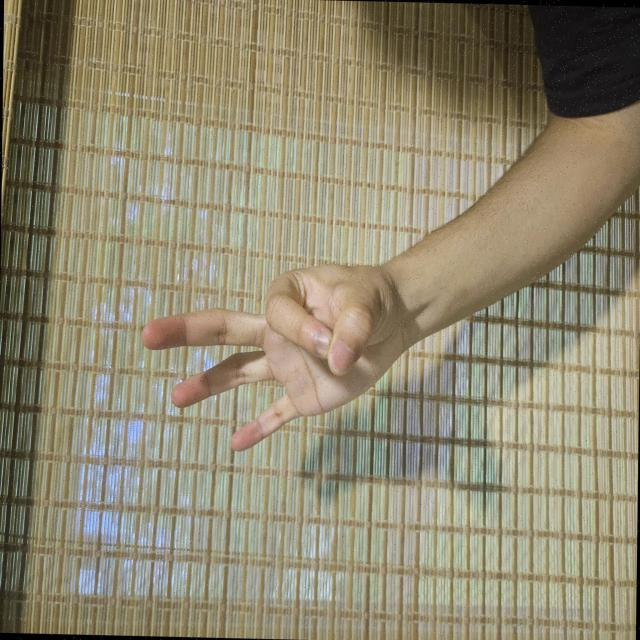F: (130, 180, 300, 543)
